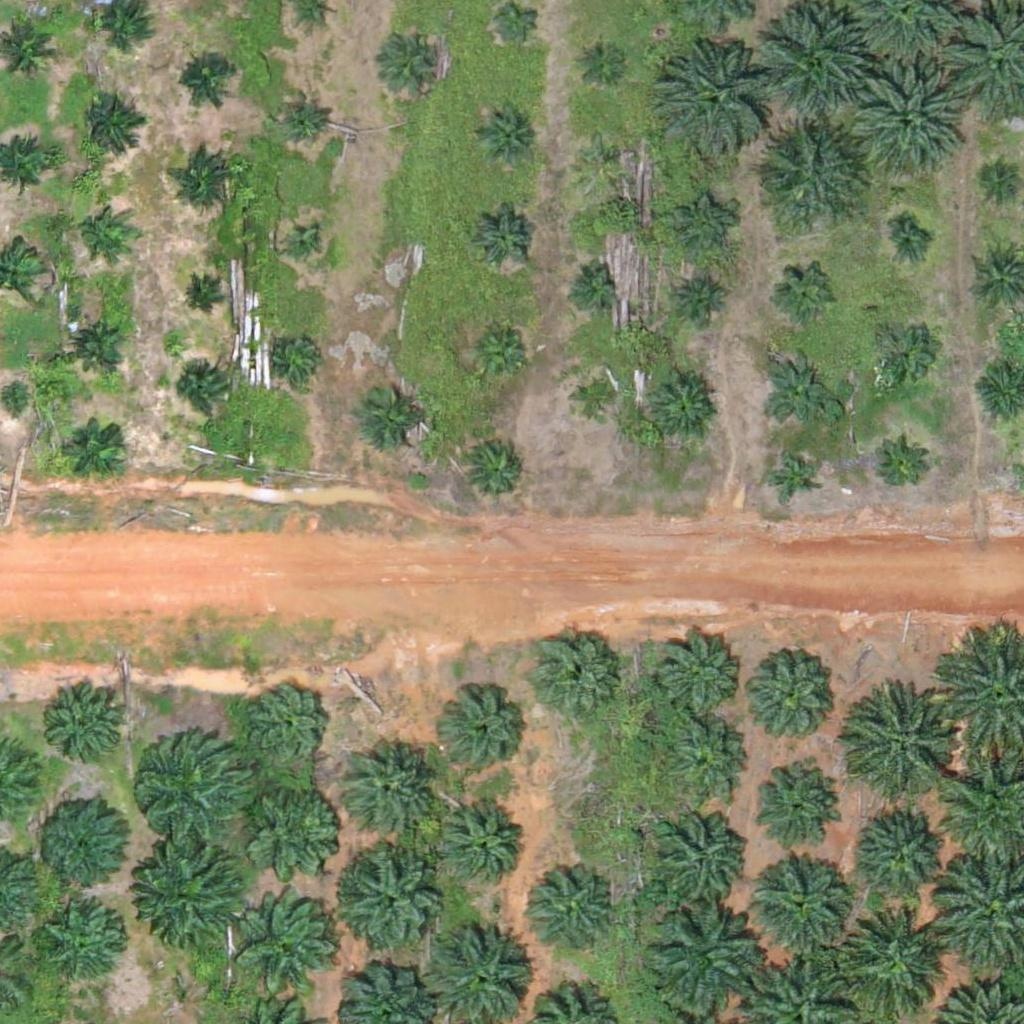Kelapa_Sawit: (132, 727, 257, 853), (652, 37, 777, 163), (834, 907, 947, 1021), (847, 60, 960, 173), (760, 2, 873, 115), (751, 117, 864, 230), (645, 904, 757, 1018), (337, 848, 449, 961), (856, 800, 956, 901), (740, 644, 840, 745), (516, 864, 616, 965), (339, 740, 439, 841), (241, 894, 341, 995), (144, 845, 244, 946), (851, 698, 951, 798), (753, 854, 853, 954), (649, 807, 749, 907), (245, 772, 345, 872), (747, 760, 835, 848), (529, 629, 617, 717), (432, 800, 520, 888), (37, 800, 124, 889), (667, 715, 754, 803), (655, 632, 742, 720), (442, 689, 529, 777), (45, 681, 132, 769), (42, 908, 129, 996), (246, 685, 333, 773), (356, 379, 431, 455), (645, 369, 720, 444), (761, 351, 836, 426), (386, 30, 449, 93), (67, 416, 130, 479), (66, 311, 129, 374), (473, 102, 536, 165), (473, 207, 536, 270), (466, 439, 529, 502), (869, 321, 932, 384), (466, 321, 529, 384), (176, 148, 238, 211), (175, 48, 237, 111), (79, 94, 142, 156), (673, 194, 735, 257), (777, 263, 839, 326), (875, 443, 925, 494), (679, 272, 729, 323), (768, 452, 818, 503), (577, 32, 627, 83), (576, 129, 626, 180), (566, 258, 616, 309), (75, 203, 125, 253), (176, 366, 226, 416), (276, 333, 326, 383), (570, 374, 620, 424), (278, 92, 328, 142), (985, 162, 1023, 200), (285, 228, 323, 266), (890, 224, 927, 262), (180, 279, 217, 317)
